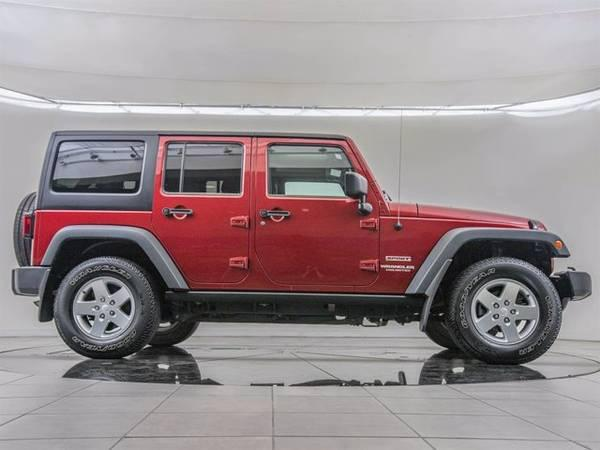Front_Bumper: (54, 257, 161, 361), (559, 271, 594, 299)
Front_Fender: (380, 212, 573, 296)
Front_Right_Door: (252, 196, 383, 298)
Front_Right_Window: (251, 133, 383, 201)
Hood: (384, 198, 549, 225)
Rear_Bumper: (11, 263, 54, 320)
Rear_Fender: (30, 131, 187, 287)
Rear_Right_Door: (151, 192, 254, 294)
Rear_Right_Window: (154, 130, 251, 195)
Wheel: (446, 256, 564, 362)
